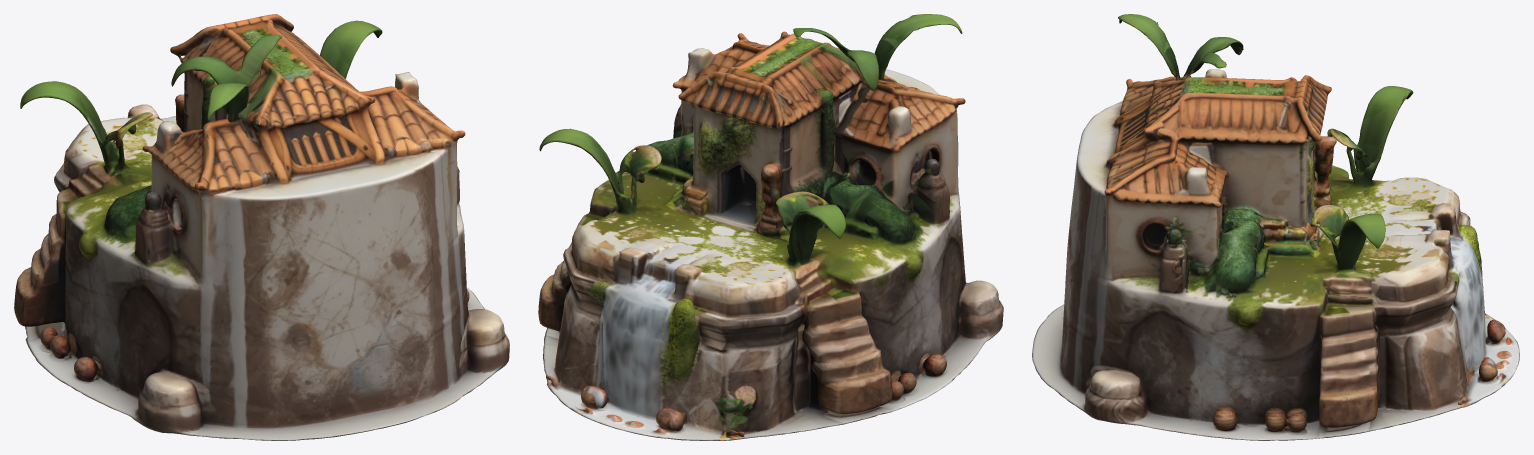
Rendered from old_house_lev2.glb.
3 renders of one model, left to right at view 1: azimuth 30°, elevation 25°; view 2: azimuth 150°, elevation 25°; view 3: azimuth 270°, elevation 25°, orthographic. The views are drawn at different scales.
Parts seen in each view (by area): view 1: model_0.007; view 2: model_0.007; view 3: model_0.007.
Boxes of the visible parts, <box> form: model_0.007: <box>14,14,509,440</box>; model_0.007: <box>538,14,1003,440</box>; model_0.007: <box>1032,14,1519,440</box>.
Bounding box in the file's own units: 37.43 × 28.56 × 43.8.
1 material, 1 textured.
